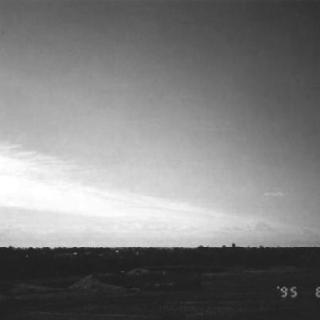Cirrostratus: (0, 144, 320, 242)
